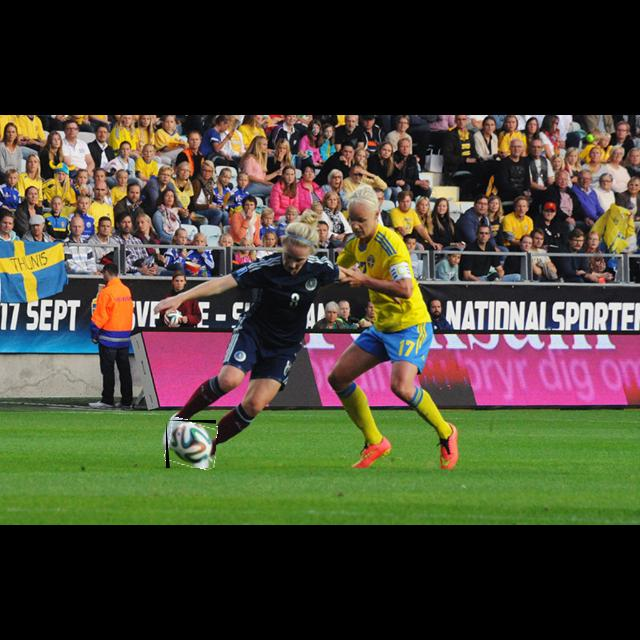Football: (166, 420, 216, 468)
